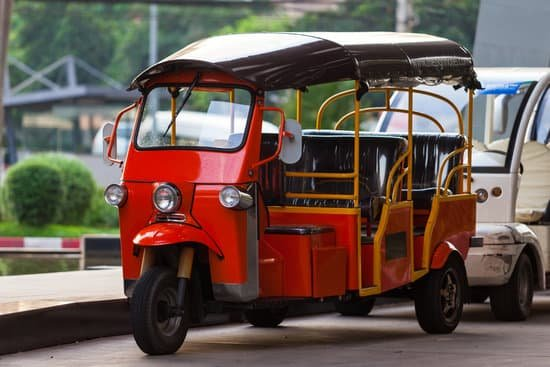threewheel: (104, 30, 483, 355)
